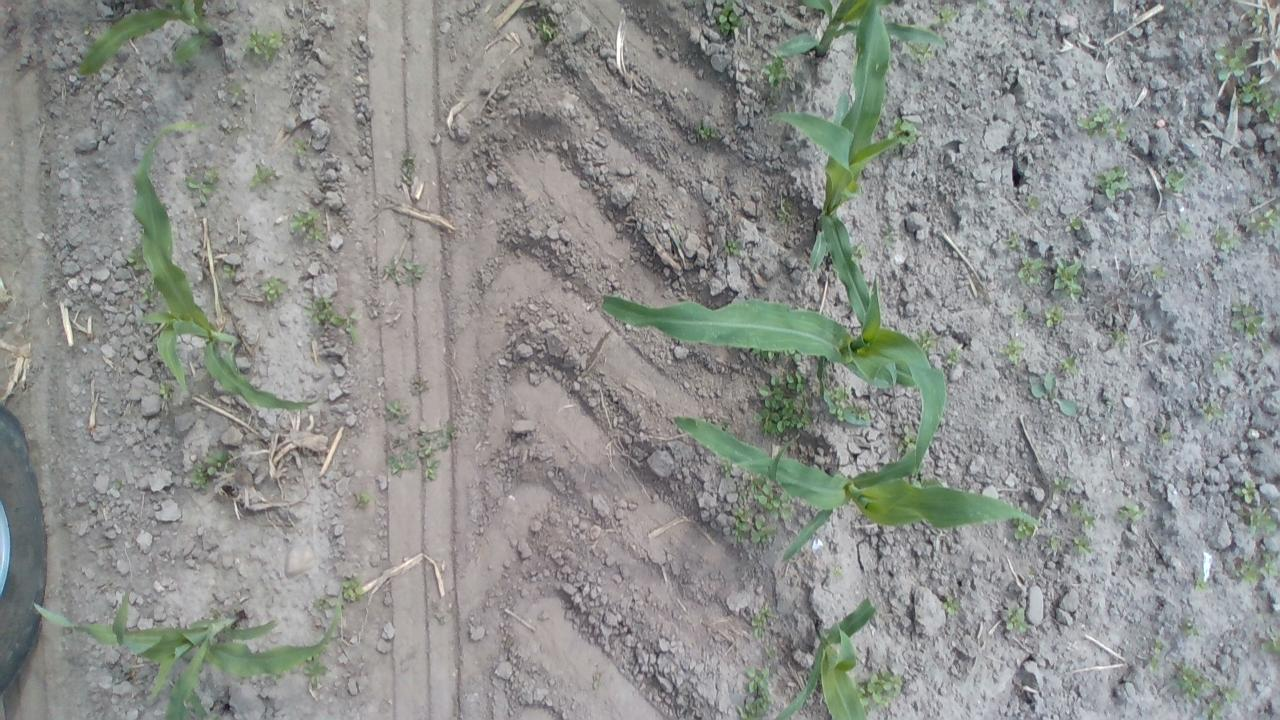Maize: (656, 356, 1042, 568), (128, 113, 329, 424), (593, 279, 973, 413), (779, 6, 901, 346), (27, 601, 355, 720), (769, 595, 892, 720), (80, 0, 229, 80), (748, 5, 942, 54)
Weeds: (381, 398, 461, 485), (1210, 44, 1280, 124), (730, 477, 791, 550), (758, 375, 816, 440), (301, 287, 364, 345), (1028, 369, 1080, 420), (374, 255, 432, 296), (734, 666, 778, 720), (192, 442, 240, 490), (852, 666, 906, 708), (284, 206, 330, 248), (1080, 103, 1123, 146), (827, 380, 869, 424), (1196, 684, 1246, 720), (1226, 300, 1264, 344), (243, 28, 286, 66), (1238, 548, 1278, 588), (760, 49, 794, 95), (1050, 257, 1086, 300), (886, 111, 919, 157), (1095, 166, 1137, 202), (1167, 665, 1207, 701), (750, 344, 808, 368), (183, 166, 221, 202), (994, 604, 1034, 638), (768, 195, 798, 237), (892, 33, 935, 62), (1010, 506, 1040, 546), (1241, 207, 1276, 241), (244, 161, 281, 193), (1209, 223, 1237, 265), (1244, 505, 1278, 539), (338, 572, 372, 606), (711, 1, 745, 35), (298, 658, 336, 688), (1012, 255, 1046, 288), (746, 603, 776, 640), (208, 255, 246, 284), (1118, 499, 1151, 532), (1204, 345, 1236, 379), (285, 131, 316, 165), (258, 274, 292, 304), (681, 122, 721, 146), (1232, 472, 1259, 506), (532, 10, 560, 42), (1140, 635, 1163, 673), (1021, 193, 1050, 223), (1154, 165, 1184, 194), (1103, 322, 1130, 354), (1052, 348, 1079, 380), (1050, 472, 1079, 501), (1000, 338, 1030, 366), (1070, 501, 1100, 529), (930, 5, 960, 33), (1146, 264, 1176, 292), (126, 243, 157, 270), (1175, 217, 1204, 244), (723, 233, 749, 263), (153, 376, 180, 404), (141, 276, 166, 306), (1068, 530, 1094, 557), (1176, 620, 1202, 646), (1042, 306, 1070, 330), (1200, 399, 1226, 424), (911, 328, 930, 362), (1010, 305, 1034, 329), (936, 592, 958, 618), (314, 594, 340, 616), (898, 421, 918, 447), (942, 349, 962, 374), (1047, 534, 1066, 560), (351, 489, 372, 512), (1262, 629, 1280, 655), (1156, 430, 1174, 454), (1192, 570, 1210, 594), (1066, 213, 1082, 240), (1001, 226, 1018, 249)
